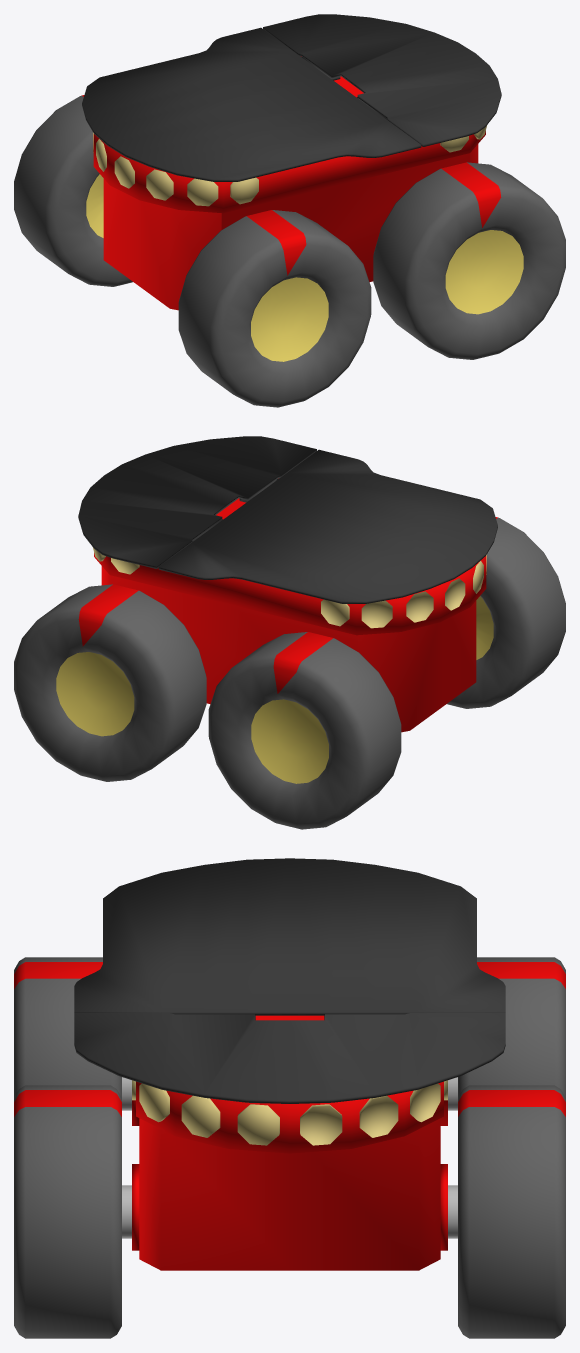
File: pioneer3at.glb
3 renders of one model, top to bottom at view 1: azimuth 30°, elevation 25°; view 2: azimuth 150°, elevation 25°; view 3: azimuth 270°, elevation 25°, orthographic. The views are drawn at different scales.
Parts seen in each view (by area): view 1: top_plate, p3at_back_right_wheel, p3at_front_right_wheel, base_link, p3at_back_left_wheel, p3at_front_right_hub, p3at_back_right_hub, back_sonar, p3at_back_left_hub; view 2: top_plate, p3at_back_left_wheel, p3at_front_left_wheel, base_link, p3at_back_right_wheel, p3at_front_left_hub, p3at_back_left_hub, back_sonar, p3at_back_right_hub; view 3: top_plate, base_link, p3at_front_left_wheel, p3at_front_right_wheel, p3at_back_left_wheel, p3at_back_right_wheel, front_sonar.
Part boxes in pixels (x1,y1,x2,y2): top_plate: (82, 14, 501, 181); p3at_back_right_wheel: (178, 210, 371, 407); p3at_front_right_wheel: (373, 162, 565, 359); base_link: (93, 56, 485, 310); p3at_back_left_wheel: (14, 95, 132, 286); p3at_front_right_hub: (445, 230, 523, 314); p3at_back_right_hub: (251, 277, 328, 361); back_sonar: (93, 132, 258, 206); p3at_back_left_hub: (86, 174, 103, 237); top_plate: (78, 436, 497, 603); p3at_back_left_wheel: (208, 632, 401, 829); p3at_front_left_wheel: (14, 584, 206, 781); base_link: (94, 478, 486, 732); p3at_back_right_wheel: (447, 517, 565, 708); p3at_front_left_hub: (56, 652, 134, 736); p3at_back_left_hub: (251, 699, 328, 783); back_sonar: (321, 554, 486, 628); p3at_back_right_hub: (476, 596, 493, 659); top_plate: (74, 858, 505, 1103); base_link: (132, 1015, 447, 1270); p3at_front_left_wheel: (458, 1085, 565, 1338); p3at_front_right_wheel: (14, 1085, 121, 1338); p3at_back_left_wheel: (458, 957, 565, 1097); p3at_back_right_wheel: (14, 957, 121, 1097); front_sonar: (132, 1080, 447, 1145).
Bounding box in the file's own units: 50.82 × 27.74 × 48.99.
